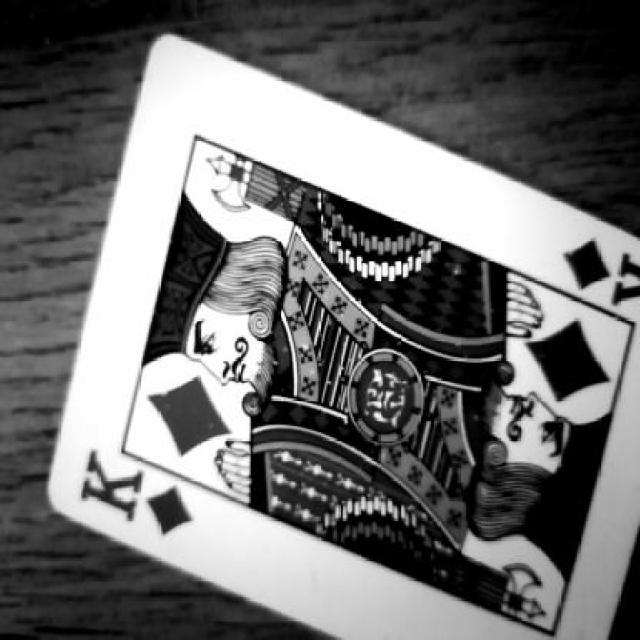KD: (59, 448, 202, 550)
